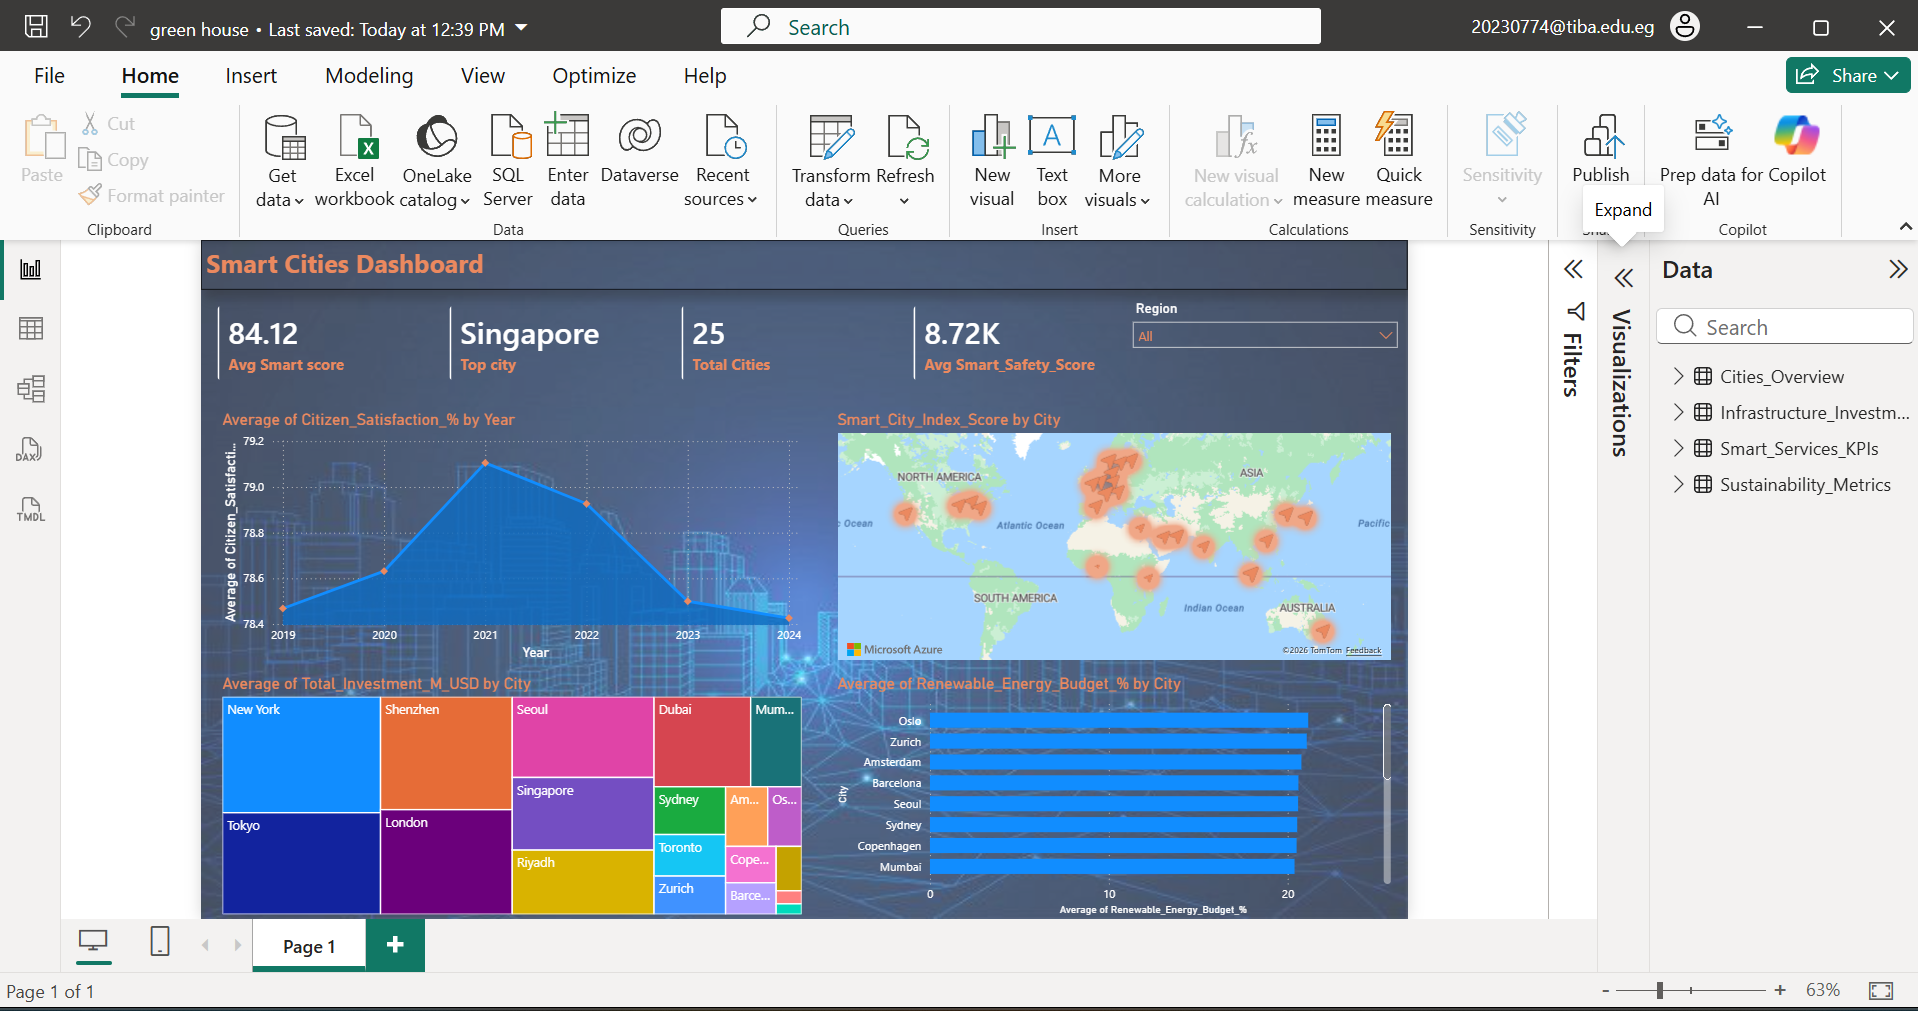

The page's visual inventory and layout, read from the dashboard file:
{"tool":"powerbi","page":{"name":"Page 1","canvas":[1280,720],"ordinal":0},"visuals":[{"type":"textbox","box":[0,0,1279.4,52.9],"z":0},{"type":"cardVisual","fields":{"Data":["Cities_Overview.Avg Smart score","Cities_Overview.Top city","Cities_Overview.Total Cities","Sum(Smart_Services_KPIs.Smart_Safety_Score)"]},"box":[0,52.9,1012.9,113.4],"z":1000},{"type":"azureMap","title":"Smart_City_Index_Score by City","fields":{"Category":["Cities_Overview.City"],"Size":["Sum(Cities_Overview.Smart_City_Index_Score)"]},"box":[669,179.5,597.2,270.2],"z":2000},{"type":"areaChart","fields":{"Category":["Smart_Services_KPIs.Year"],"Y":["Avg(Smart_Services_KPIs.Citizen_Satisfaction_%)"]},"box":[17,179.5,623.6,270.2],"z":3000},{"type":"treemap","fields":{"Values":["Avg(Infrastructure_Investment.Total_Investment_M_USD)"],"Group":["Infrastructure_Investment.City"]},"box":[17,460,624,260],"z":4000},{"type":"barChart","fields":{"Category":["Infrastructure_Investment.City"],"Y":["Avg(Infrastructure_Investment.Renewable_Energy_Budget_%)"]},"box":[669,459.2,597.2,260.8],"z":5000},{"type":"slicer","fields":{"Values":["Cities_Overview.Region"]},"box":[978.9,58.6,300.5,107.7],"z":6000}]}

Visuals, with their boxes on the page's 1280x720 design canvas (x1, y1, x2, y2). These are canvas units, not pixel positions in the 1918x1011 screenshot, which may show the page scaled, cropped or inside an application window:
textbox: [0, 0, 1279, 53]
cardVisual - Cities_Overview.Avg Smart score x Cities_Overview.Top city: [0, 53, 1013, 166]
"Smart_City_Index_Score by City" azureMap: [669, 180, 1266, 450]
areaChart - Smart_Services_KPIs.Year x Avg(Smart_Services_KPIs.Citizen_Satisfaction_%): [17, 180, 641, 450]
treemap - Avg(Infrastructure_Investment.Total_Investment_M_USD) x Infrastructure_Investment.City: [17, 460, 641, 720]
barChart - Infrastructure_Investment.City x Avg(Infrastructure_Investment.Renewable_Energy_Budget_%): [669, 459, 1266, 720]
slicer - Cities_Overview.Region: [979, 59, 1279, 166]
